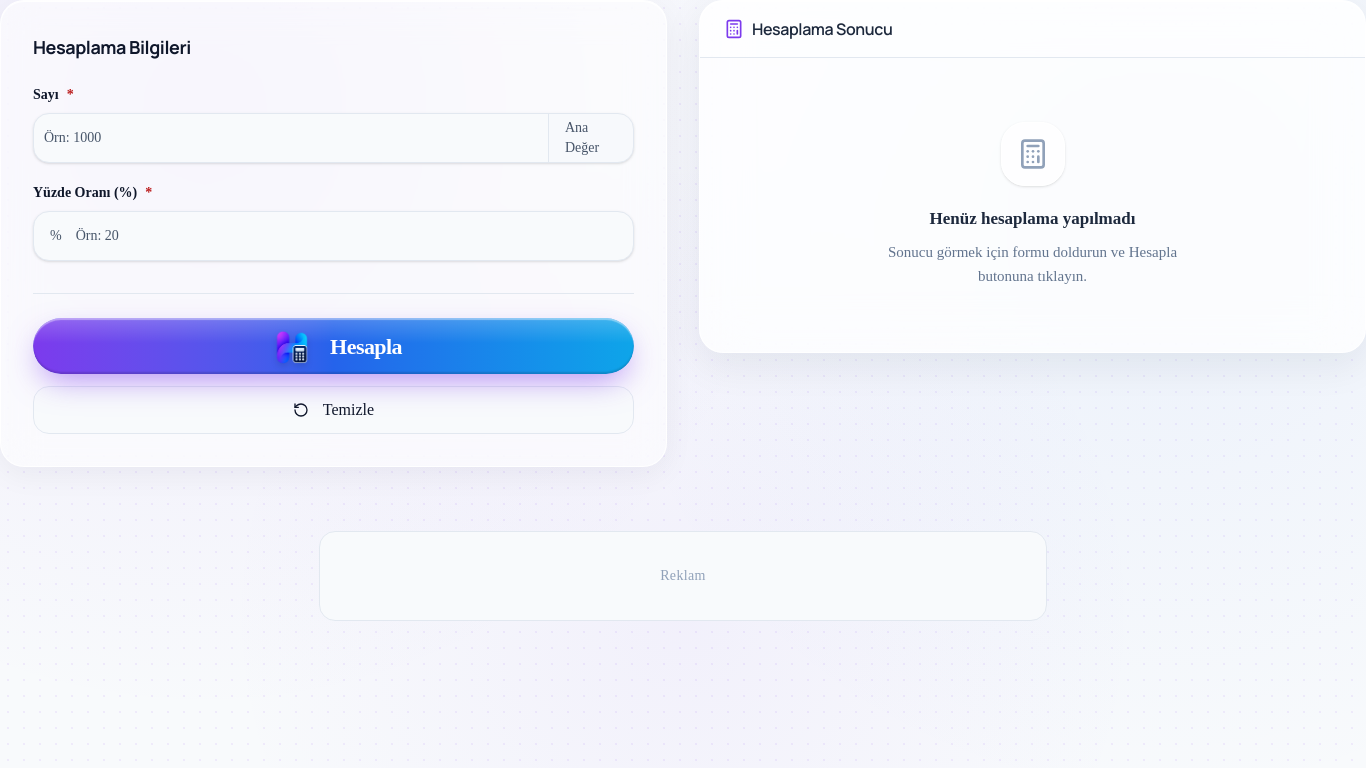
Dynamic Calculator Page UI › 2. should show validation errors when submitted empty
The width and height of the screenshot is (1366, 768).
Click the button "Hesapla".
click(334, 346)  # box [33,318,634,374]
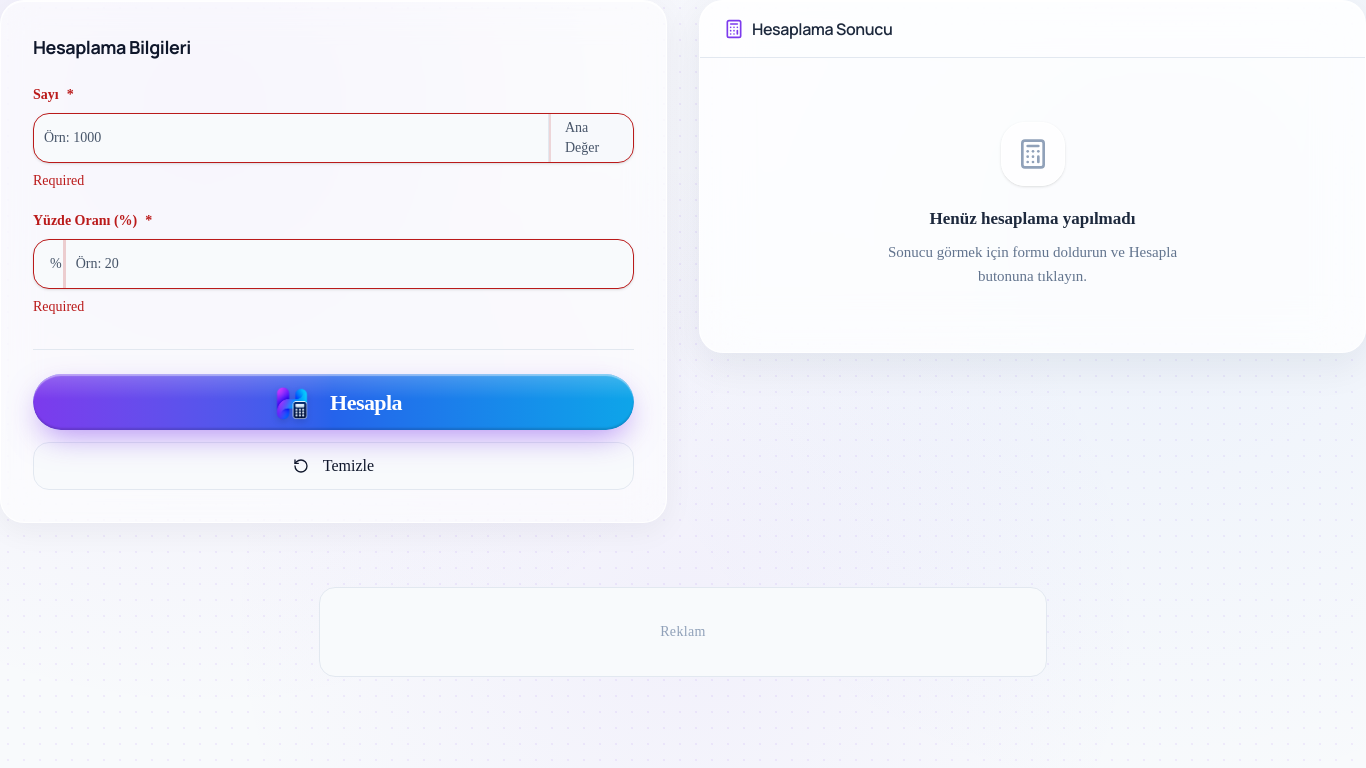
Expected: the text "Required" is shown 2 times, [33,173,84,188]; [33,299,84,314]
